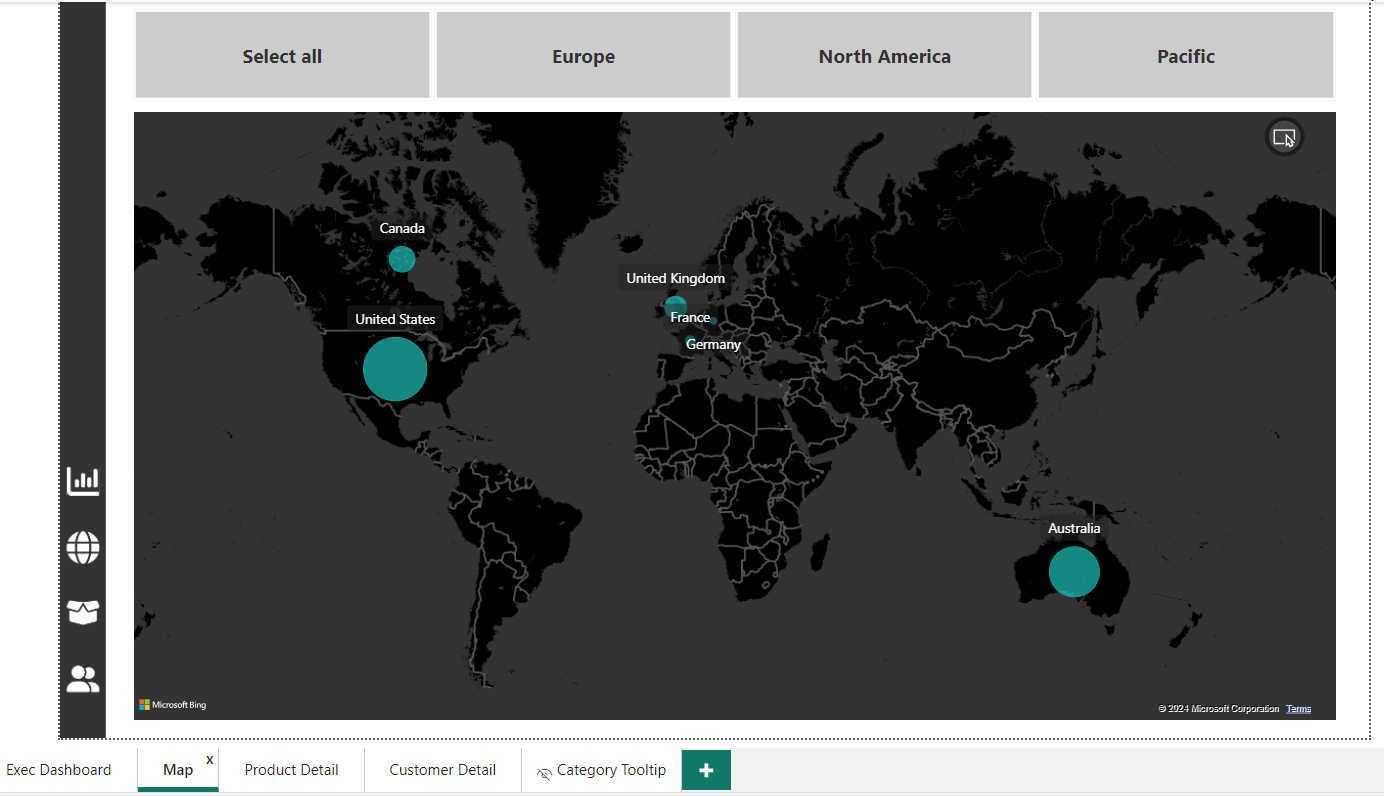

This screenshot's page, from the dashboard's own definition file:
{"tool":"powerbi","page":{"name":"Map","canvas":[1280,720],"ordinal":1},"visuals":[{"type":"shape","box":[0,0,45,720],"z":0},{"type":"actionButton","box":[2.4,513,40.3,40.3],"z":0,"group":"g1"},{"type":"map","fields":{"Size":["Measure Table.Total Orders"],"Category":["Territory Lookup.Country"]},"box":[67.2,102.7,1185.7,603.9],"z":1000},{"type":"actionButton","box":[2.4,448.6,40.3,40.3],"z":1000,"group":"g1"},{"type":"slicer","fields":{"Values":["Territory Lookup.Continent"]},"box":[45.2,0,1226.1,102.7],"z":2000},{"type":"actionButton","box":[2.4,577.4,40.3,40.3],"z":2000,"group":"g1"},{"type":"group","id":"g1","title":"Navigation Button","box":[2.4,448.6,41.6,233.5],"z":3000},{"type":"actionButton","box":[2.4,641.7,40.3,40.3],"z":3000,"group":"g1"}]}

Visuals, with their boxes on the page's 1280x720 design canvas (x1, y1, x2, y2). These are canvas units, not pixel positions in the 1384x796 screenshot, which may show the page scaled, cropped or inside an application window:
shape: x1=0, y1=0, x2=45, y2=720
actionButton: x1=2, y1=513, x2=43, y2=553
map - Measure Table.Total Orders x Territory Lookup.Country: x1=67, y1=103, x2=1253, y2=707
actionButton: x1=2, y1=449, x2=43, y2=489
slicer - Territory Lookup.Continent: x1=45, y1=0, x2=1271, y2=103
actionButton: x1=2, y1=577, x2=43, y2=618
"Navigation Button" group: x1=2, y1=449, x2=44, y2=682
actionButton: x1=2, y1=642, x2=43, y2=682
